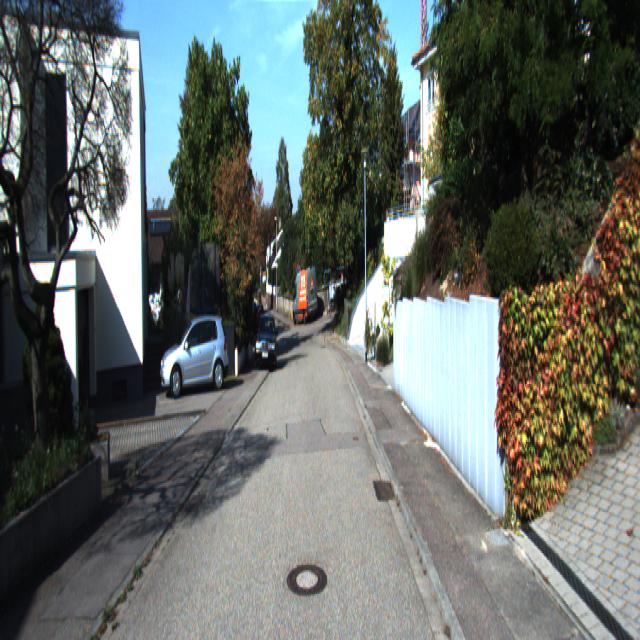Car: (160, 313, 230, 399), (292, 268, 318, 326), (254, 314, 278, 372)
